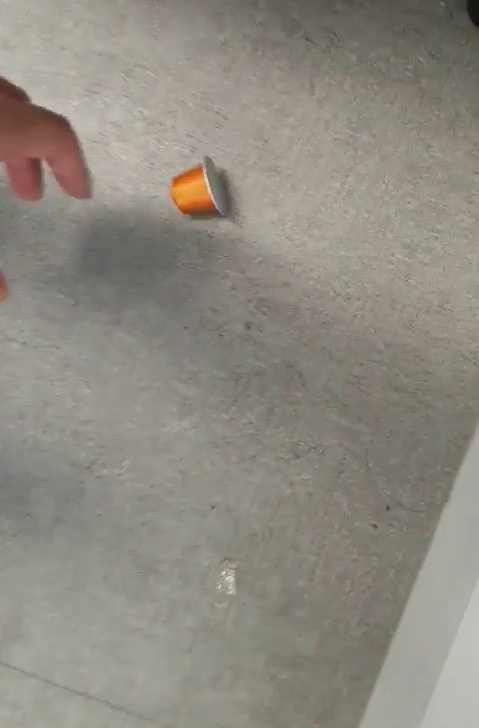capsule_5: (169, 152, 232, 220)
